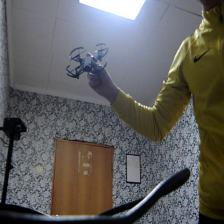drone: (64, 37, 114, 81)
